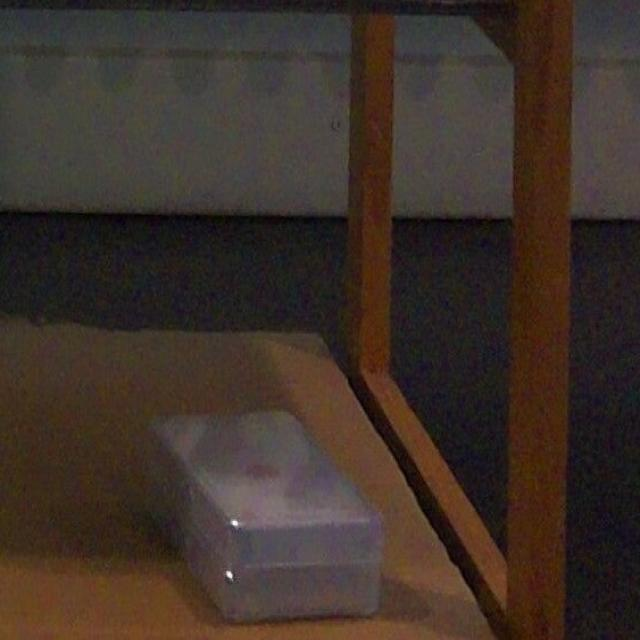Jasskarte: (149, 409, 381, 572), (143, 465, 379, 618)
